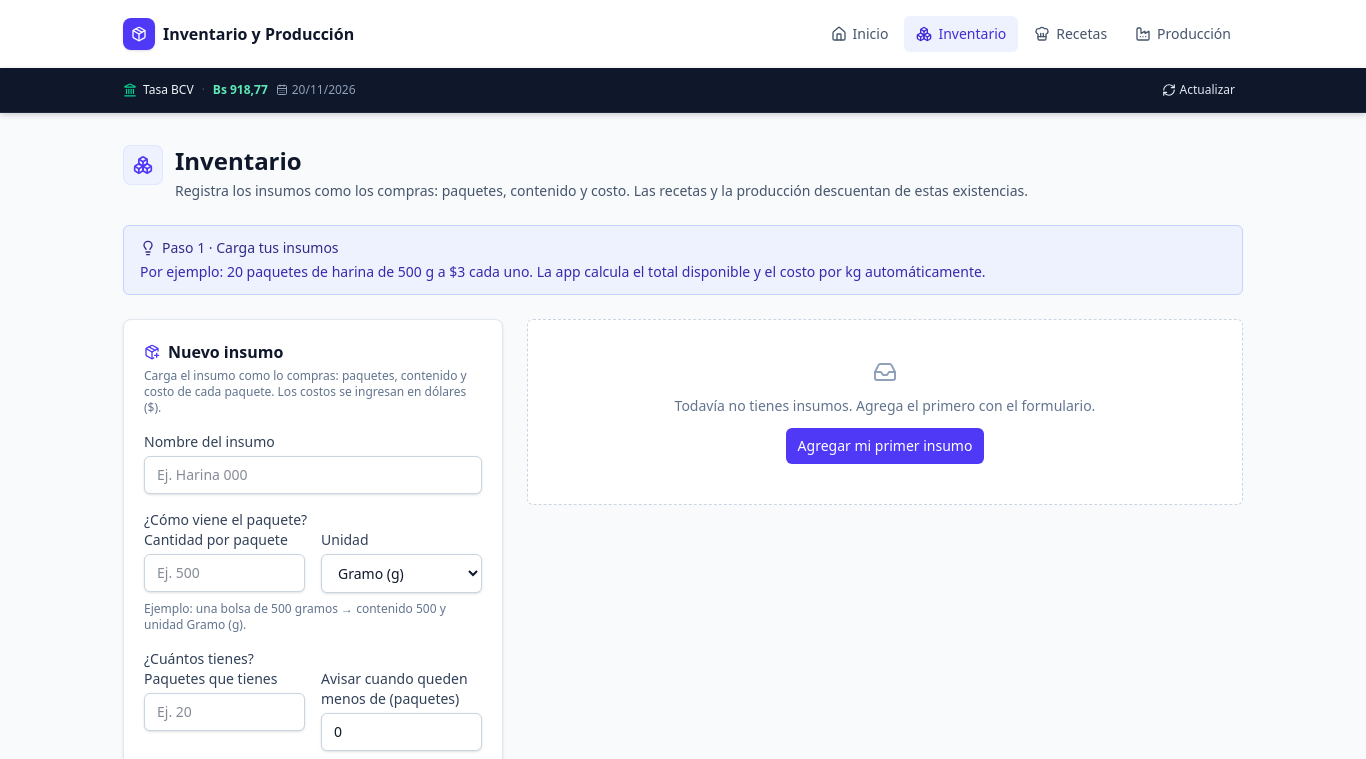
Test: alertas de stock mínimo › muestra la alerta y la lista de compras en paquetes
Step 1. Type "Harina 000" into the field labelled "Nombre del insumo" → [313, 475], box [144, 456, 482, 494]
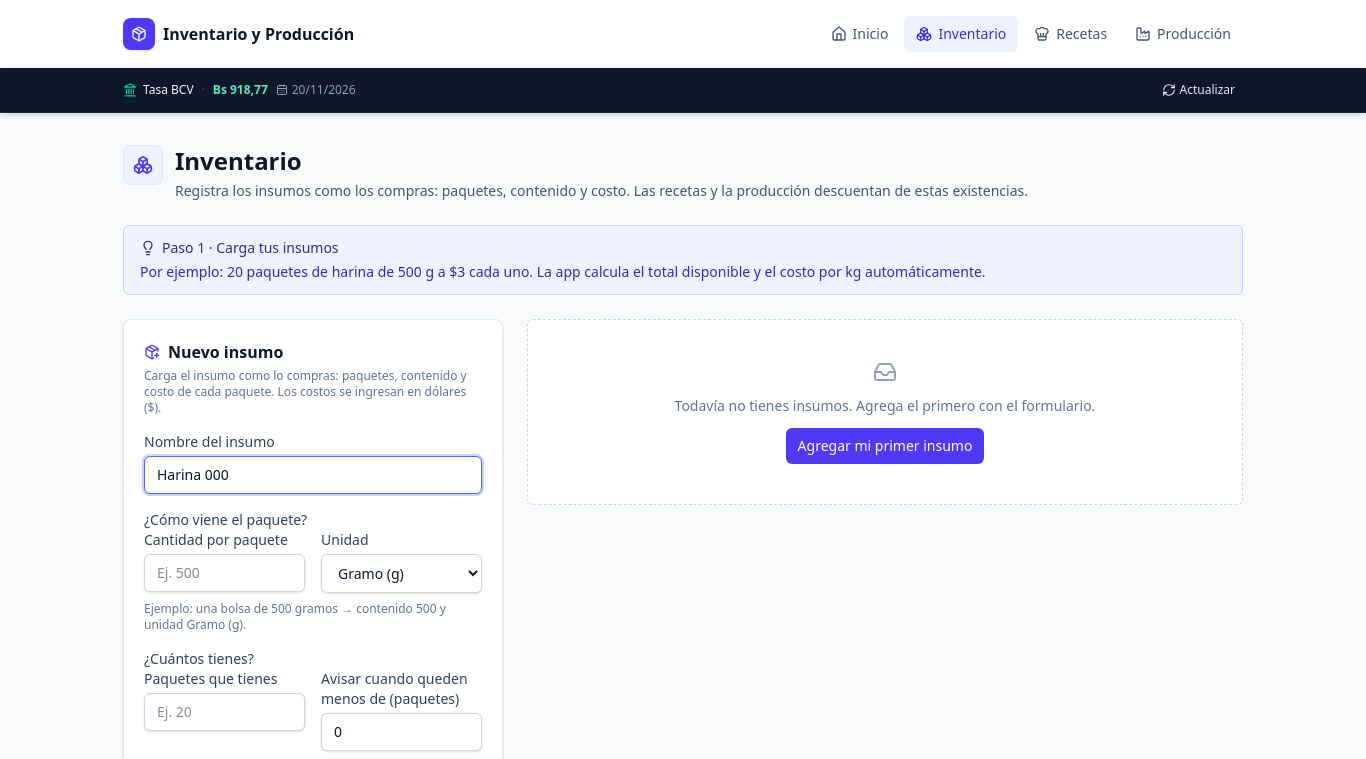
Step 2. Type "500" into the number field labelled "Cantidad por paquete" → [224, 573], box [144, 554, 305, 592]
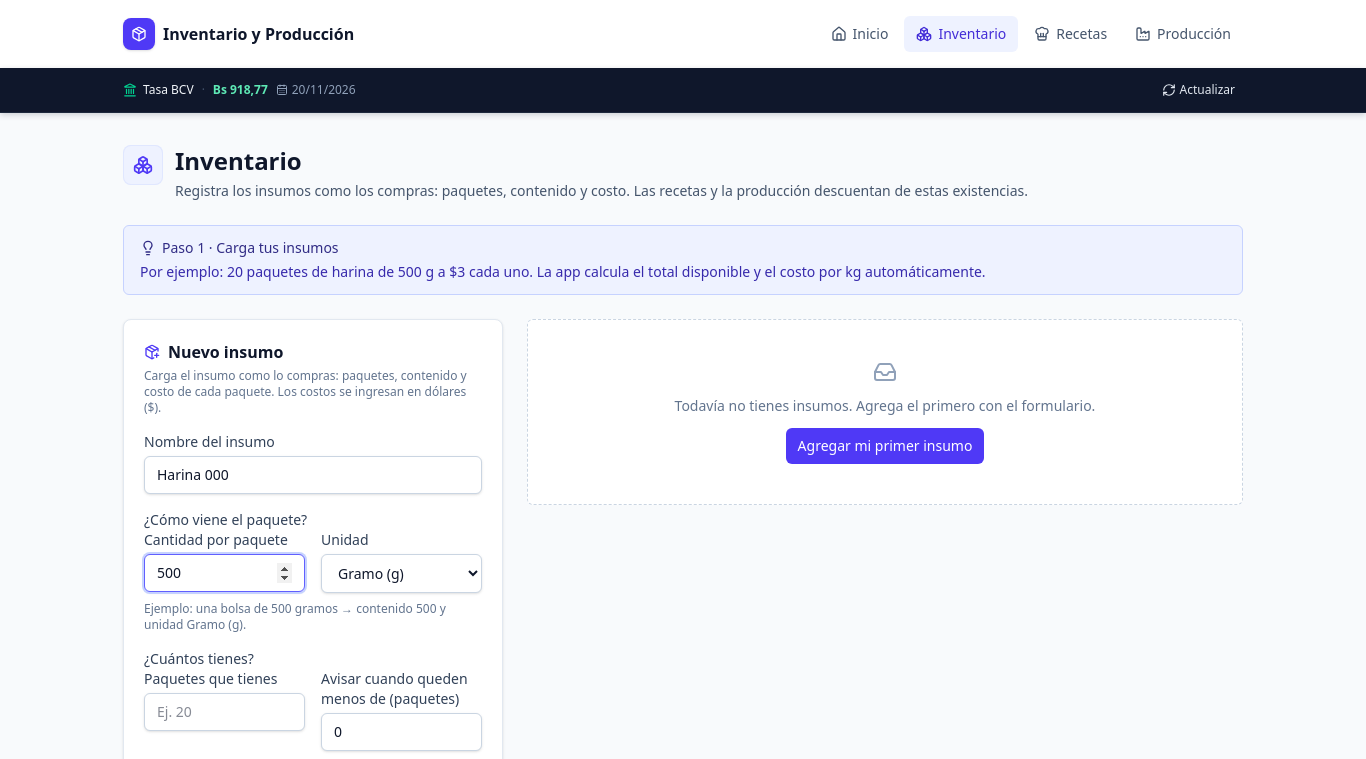
Step 3. Type "4" into the number field labelled "Paquetes que tienes" → [224, 712], box [144, 693, 305, 731]
(page scrolled)
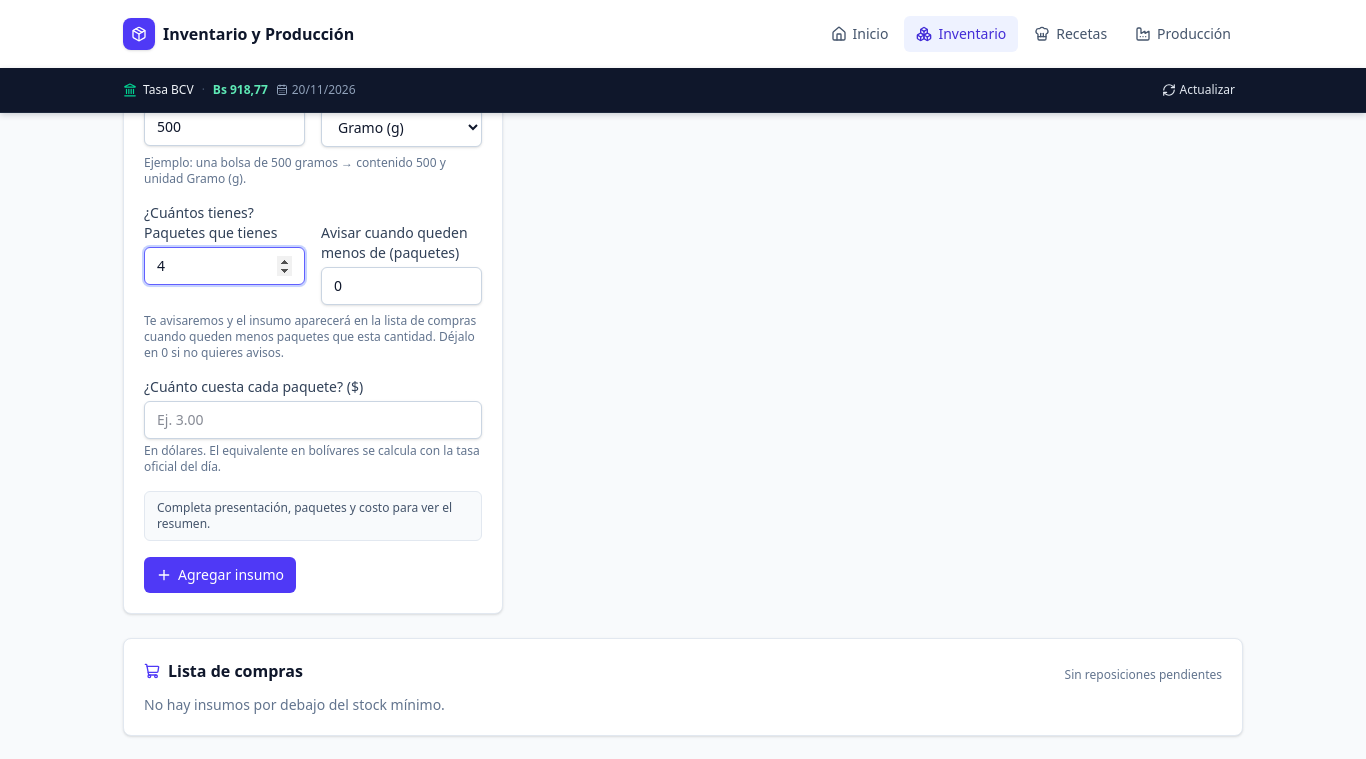
Step 4. Type "1" into the number field labelled "¿Cuánto cuesta cada paquete? ($)" → [313, 420], box [144, 401, 482, 439]
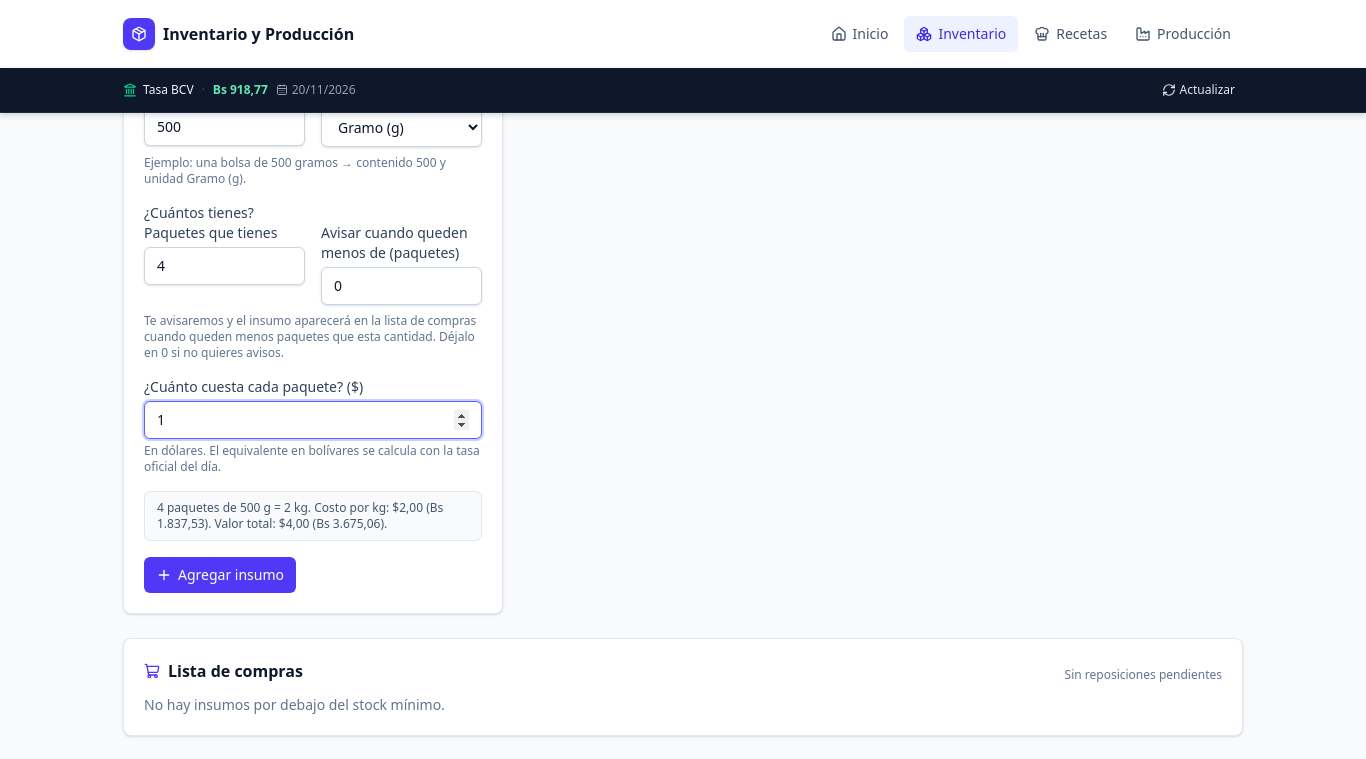
Step 5. Replace the text in the number field labelled "Avisar cuando queden menos de (paquetes)" with "10" → [402, 286], box [321, 267, 482, 305]
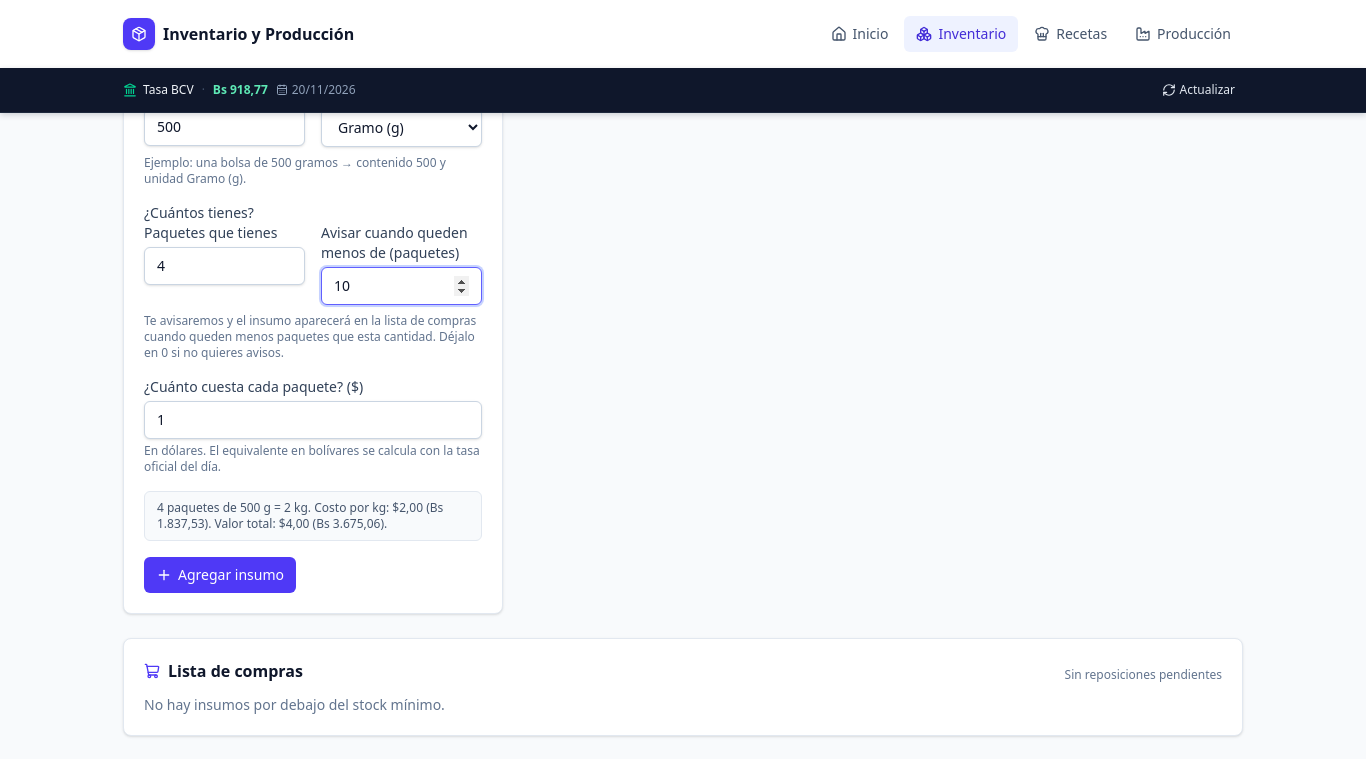
Step 6. Click the button "Agregar insumo" → [220, 575], box [144, 557, 296, 593]
(page scrolled)
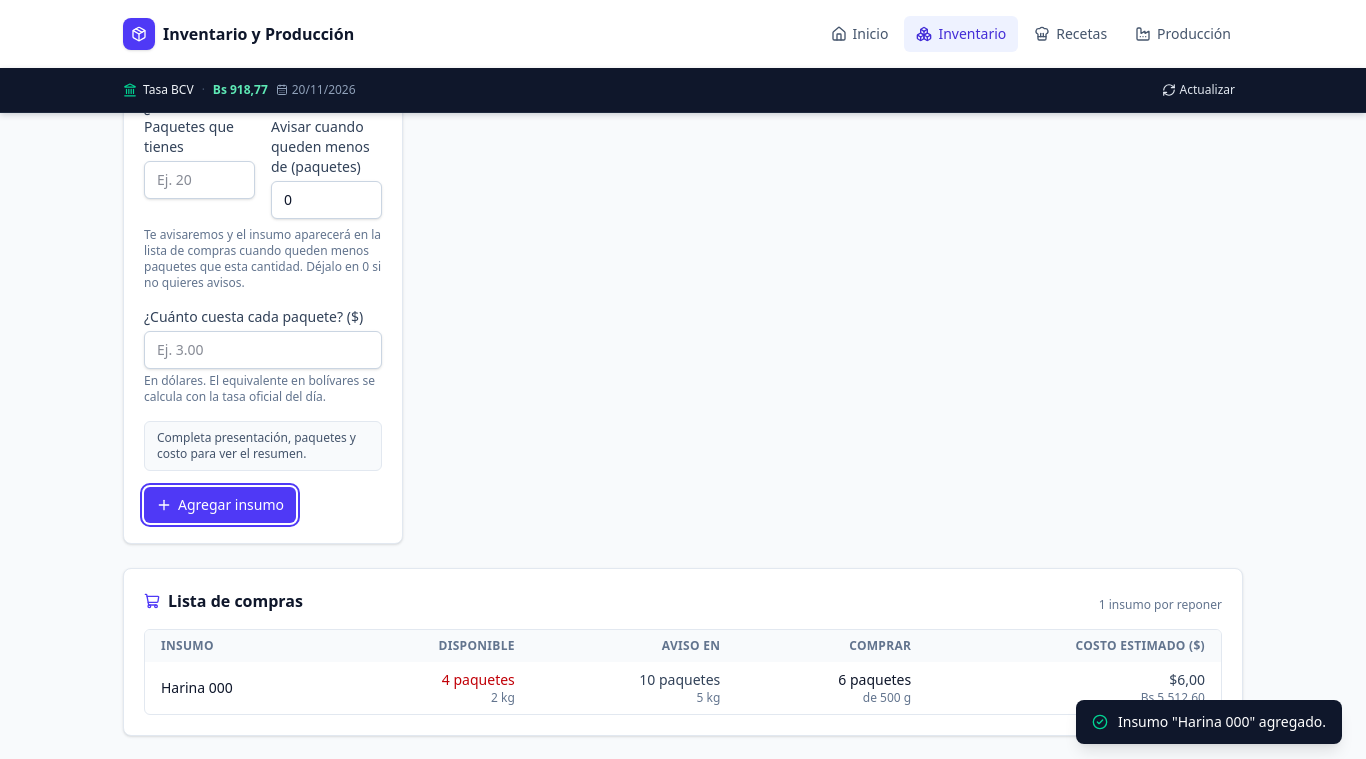
expect the text "Comprar" is shown: met, box [849, 637, 911, 654]
expect the text "6 paquetes" is shown: met, box [838, 670, 911, 689]
expect the text "$6,00" is shown: met, box [1169, 670, 1205, 689]
